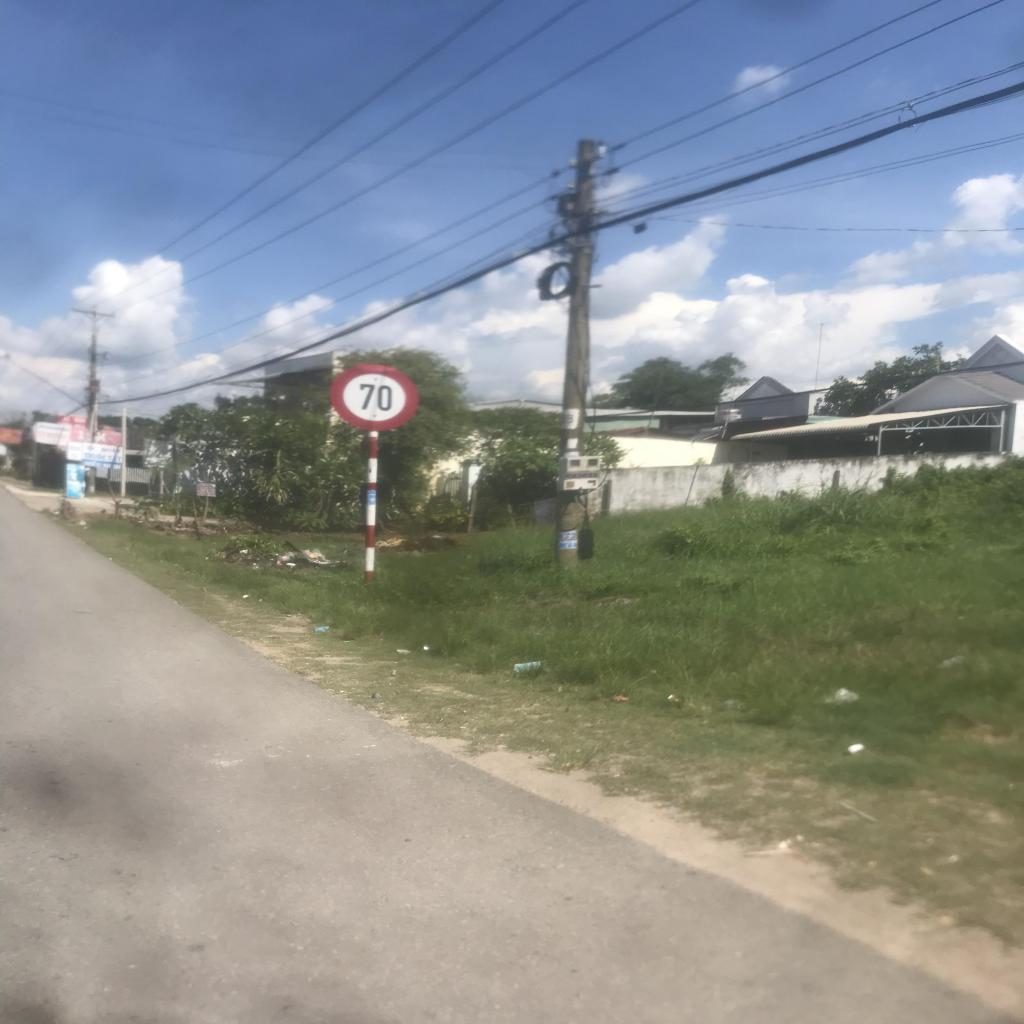khac: (328, 362, 420, 430)
